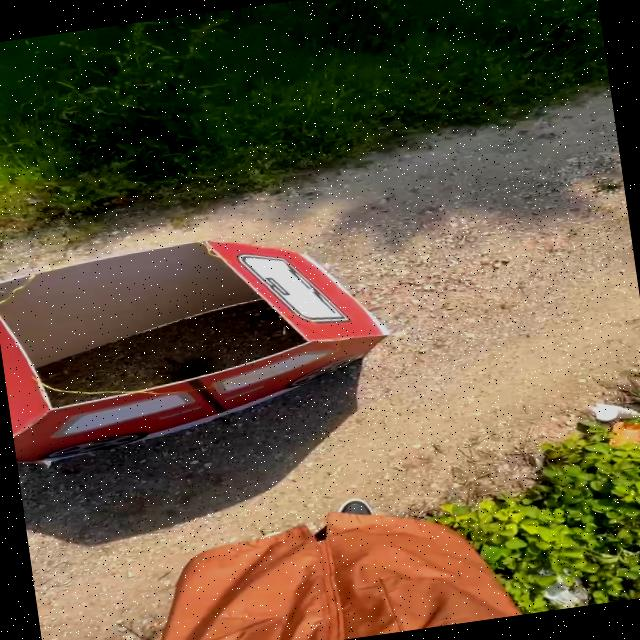red_car: (0, 187, 428, 476)
